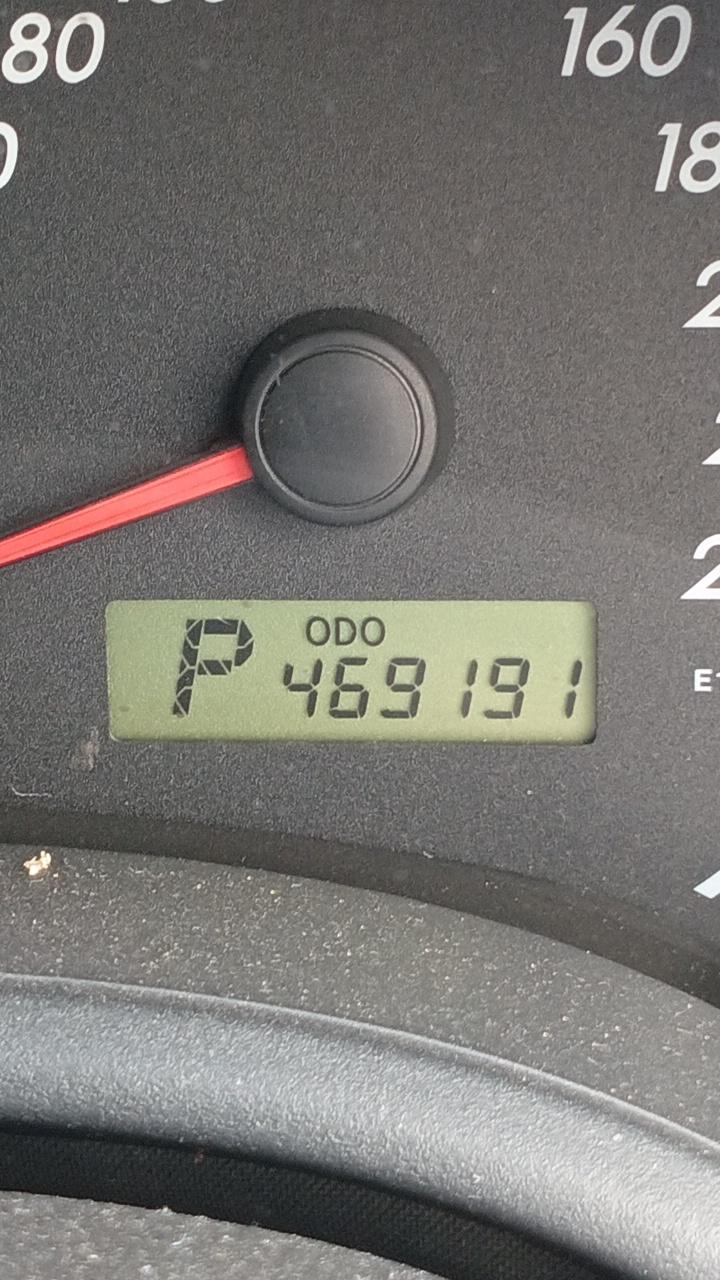1: (562, 658, 584, 720), (458, 658, 479, 719)
4: (281, 658, 323, 719)
6: (328, 656, 371, 720)
9: (378, 656, 427, 720), (482, 656, 530, 719)
X: (171, 617, 255, 718), (305, 616, 331, 647), (360, 616, 386, 647), (334, 616, 358, 647)
odometer: (102, 597, 599, 748)
